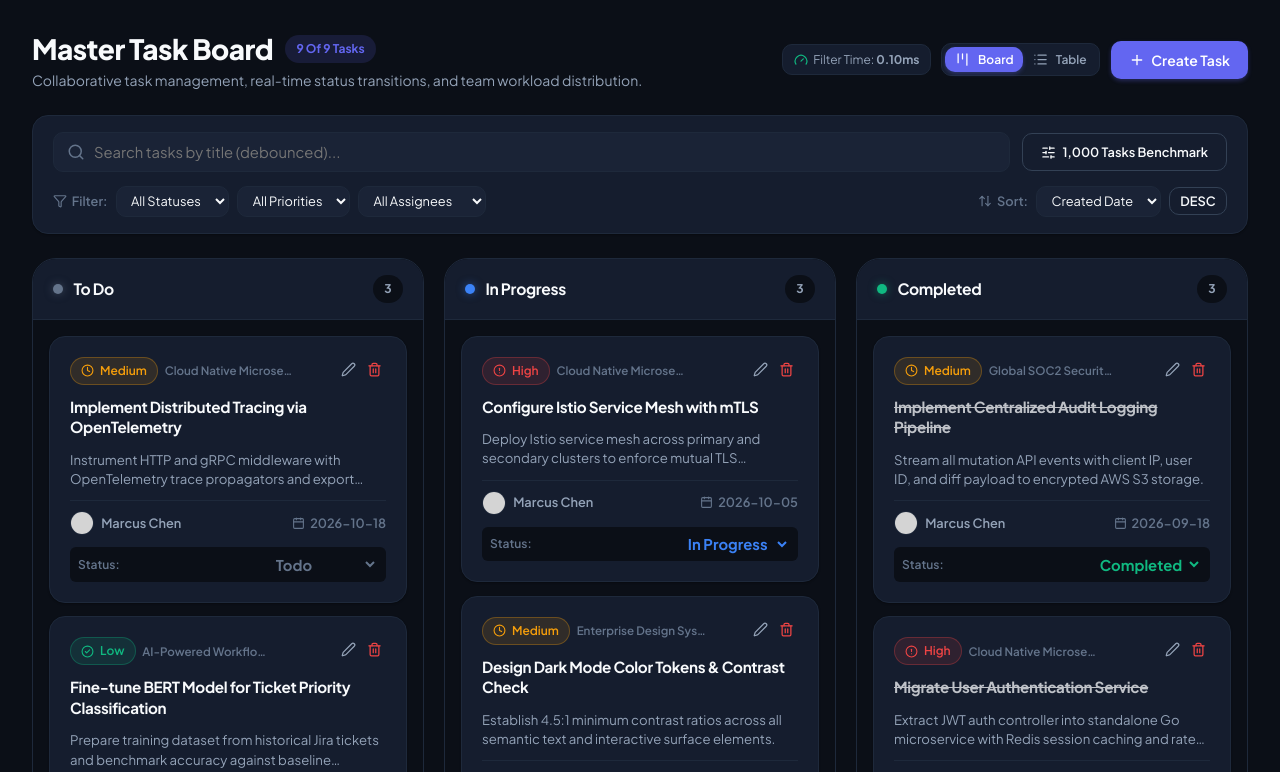
it: Task Lifecycle: Edit, Status Transition, and Deletion › deletes a task with confirmation
Expected: the heading "Configure Istio Service Mesh with mTLS" is shown, [482,397,798,417]
Click the button named "Delete Configure Istio Service Mesh with mTLS".
click(786, 371)  # box [775,358,798,384]
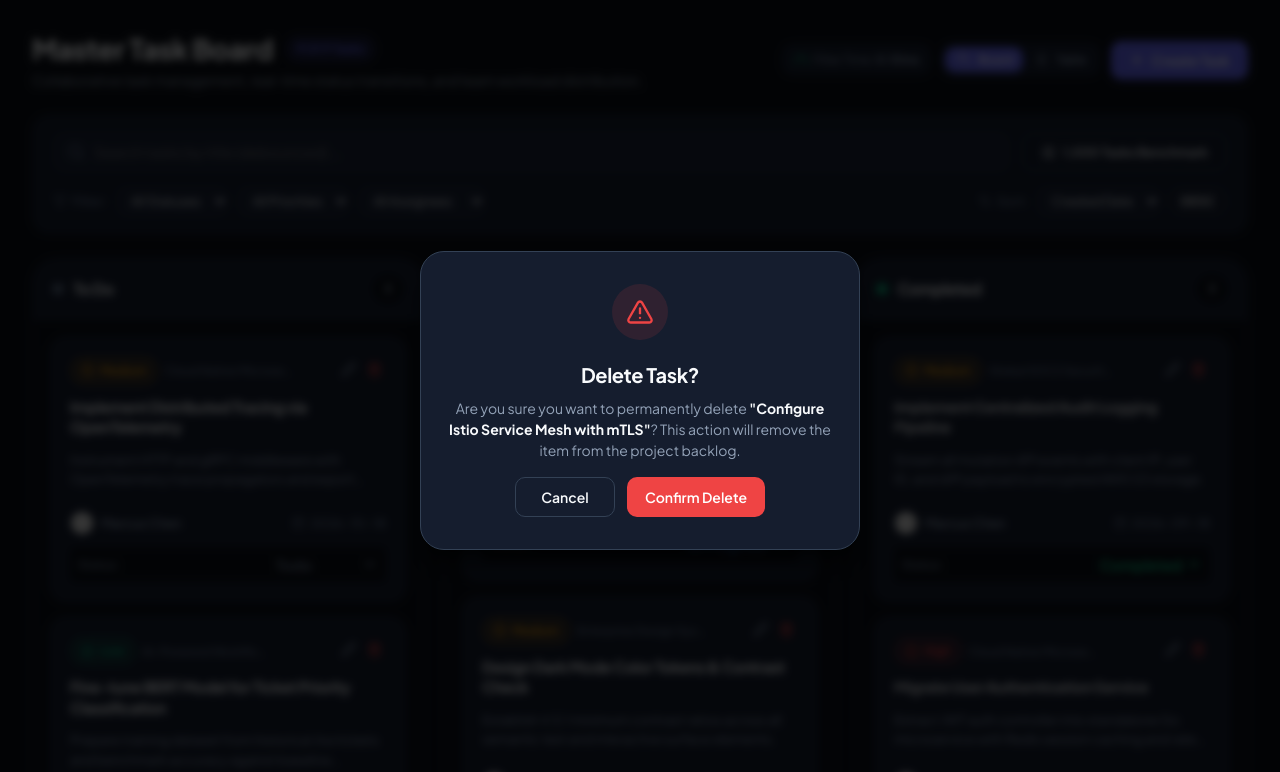
Expected: the dialog is shown, [420,250,860,550]
Expected: the heading "Delete Task?" is shown, [581,362,699,386]
Click the button "Confirm Delete".
click(696, 496)  # box [627,476,765,516]
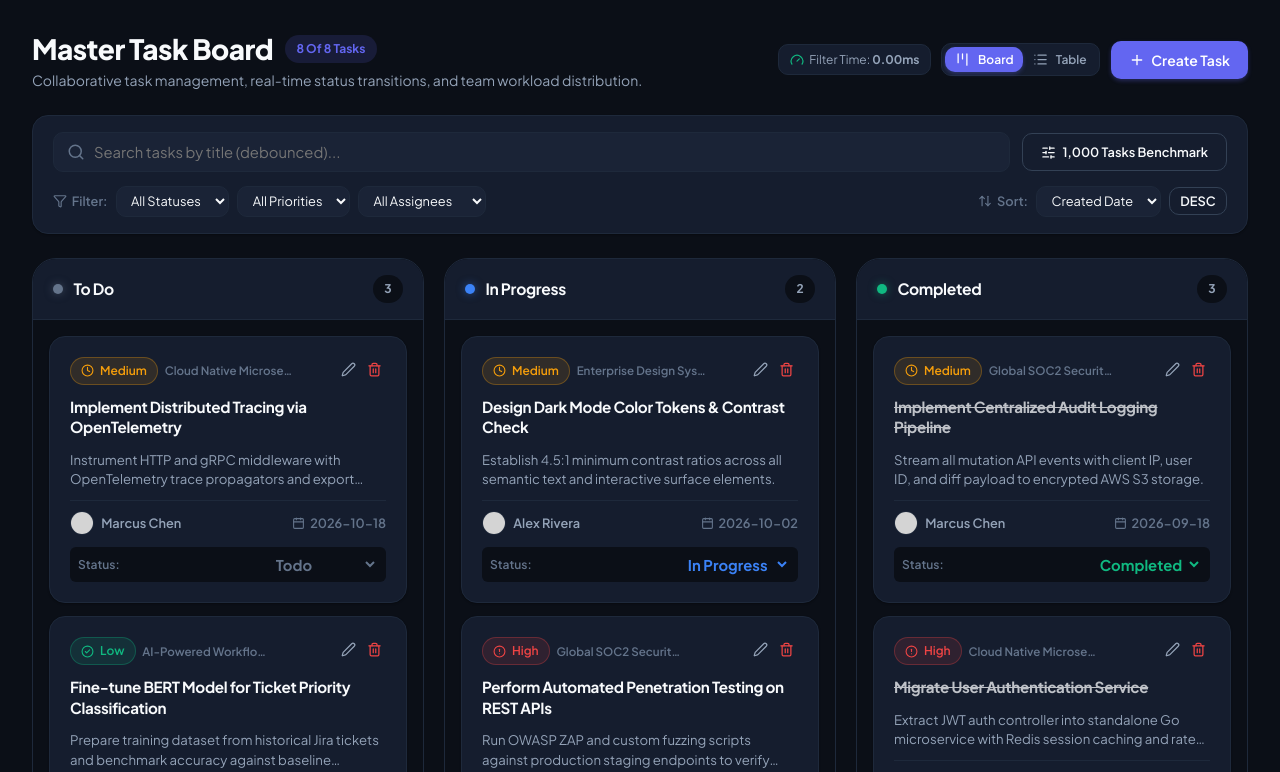
Expected: the dialog is gone
Expected: the heading "Configure Istio Service Mesh with mTLS" is gone
